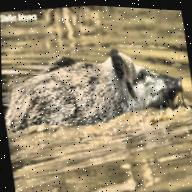boar: (1, 26, 192, 167)
